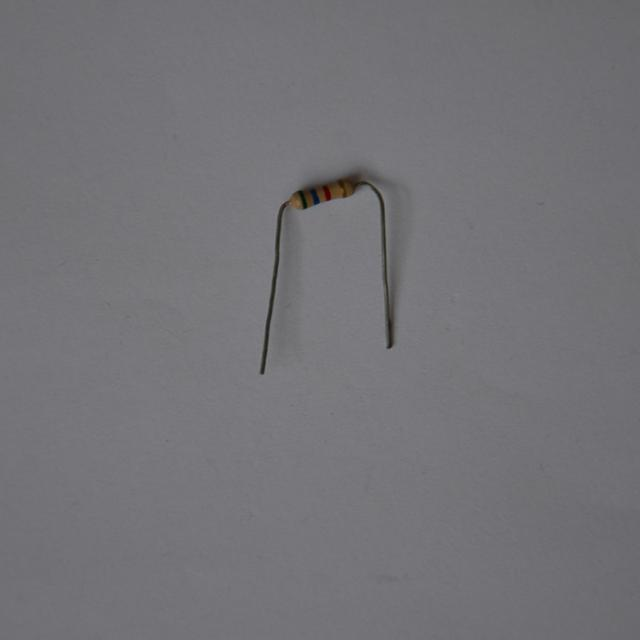blue: (310, 187, 318, 204)
gold: (338, 179, 346, 196)
green: (298, 189, 306, 207)
red: (322, 184, 332, 199)
